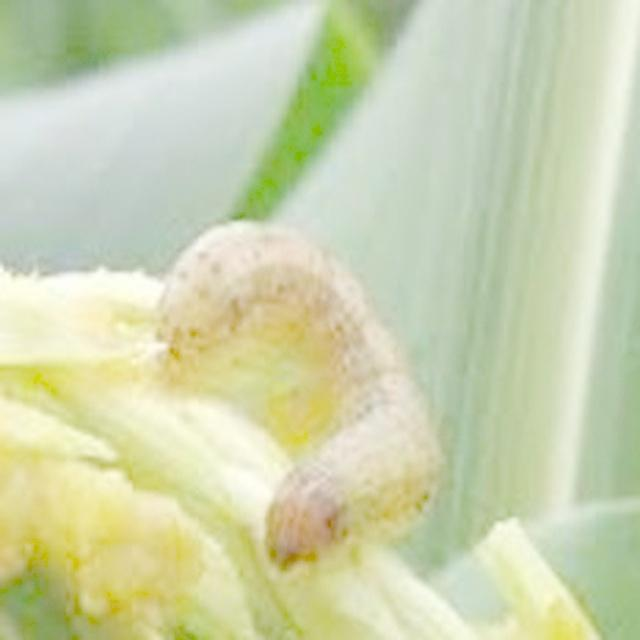gusano_cogollero: (157, 209, 446, 570)
